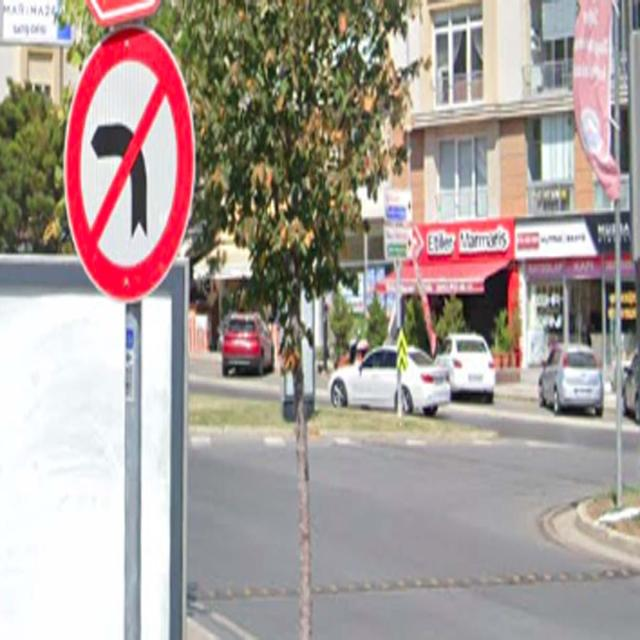soladonulmez: (63, 27, 194, 300)
